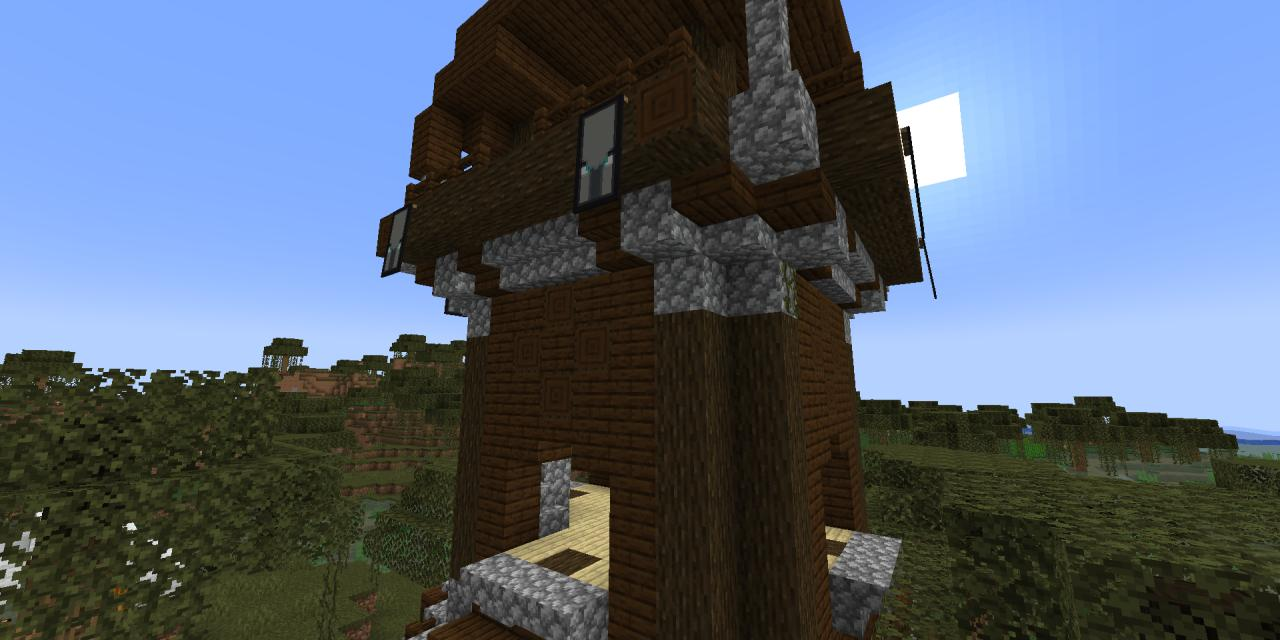pillager outpost: (368, 0, 956, 640)
